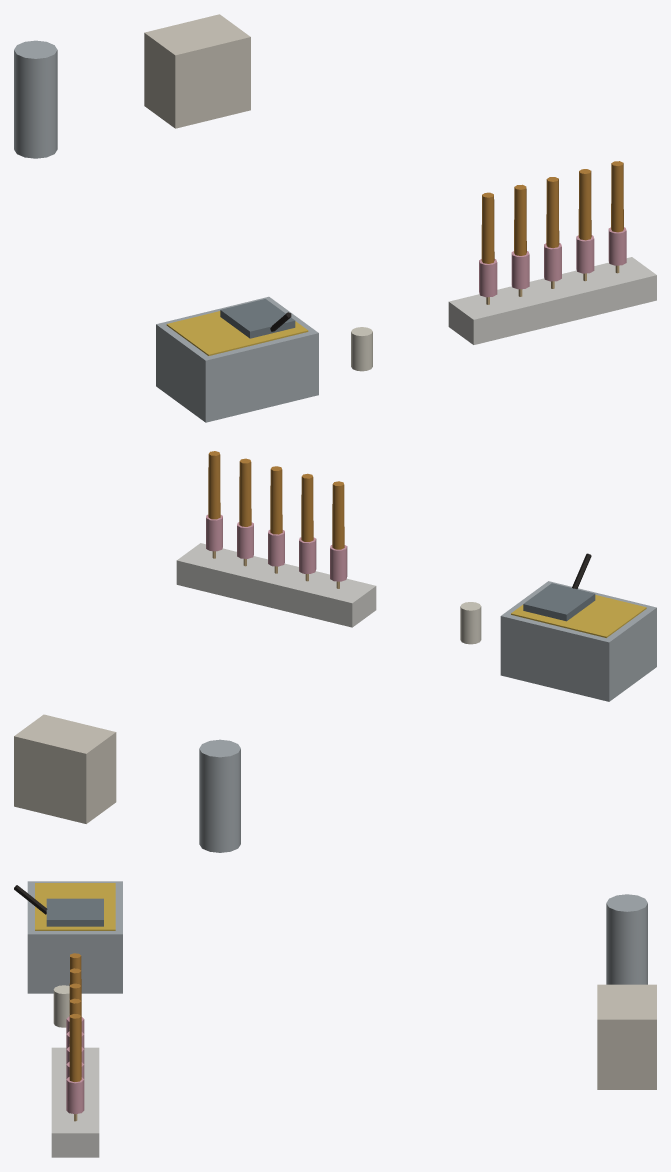
Rendered from goods_churros.glb.
3 renders of one model, top to bottom at view 1: azimuth 30°, elevation 25°; view 2: azimuth 150°, elevation 25°; view 3: azimuth 270°, elevation 25°, orthographic. The views are drawn at different scales.
Parts seen in each view (by area): view 1: goods_churros; view 2: goods_churros; view 3: goods_churros.
Part boxes in pixels (<box>): goods_churros: <box>14,14,656,422</box>; goods_churros: <box>14,451,656,852</box>; goods_churros: <box>14,881,656,1157</box>.
Size of the model in its own units: 1.72 by 0.4788 by 2.16.
